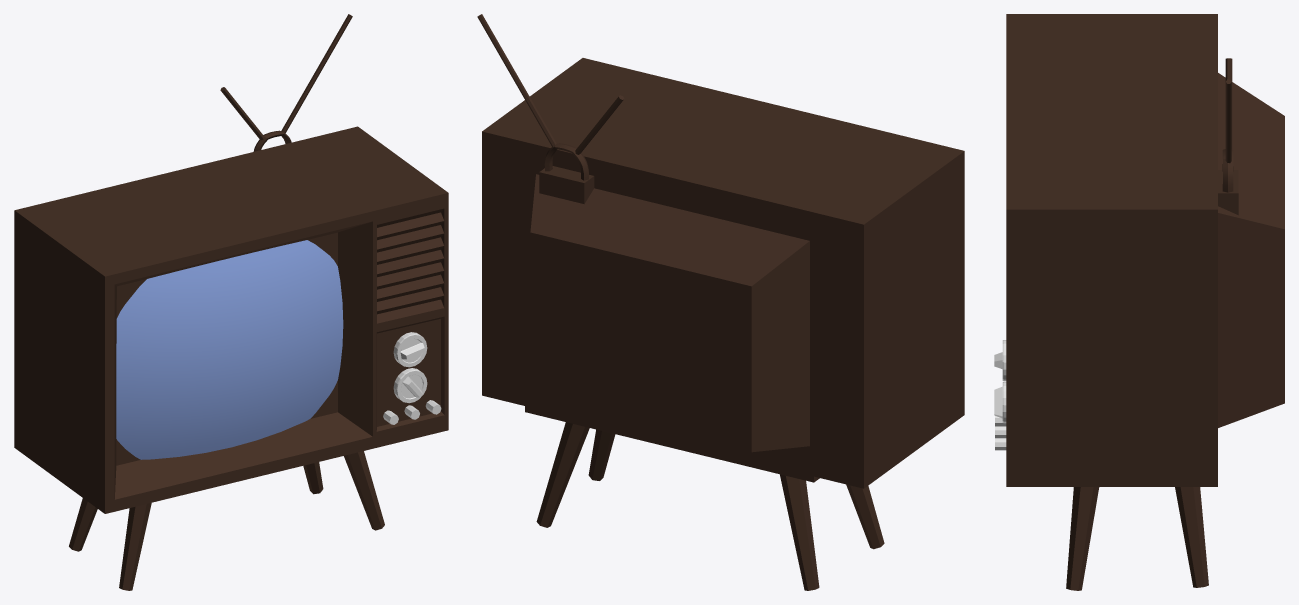
File: RetroTV_SeparatedButtons_low.fbx
3 views of the same model, side by side, from view 1: azimuth 30°, elevation 25°; view 2: azimuth 150°, elevation 25°; view 3: azimuth 270°, elevation 25° (orthographic). The views are drawn at different scales.
Parts seen in each view (by area): view 1: Retro_TV_01_Gehaeuse_low, Retro_TV_01_screen_low, TopB_low, BottomB_low; view 2: Retro_TV_01_Gehaeuse_low; view 3: Retro_TV_01_Gehaeuse_low, BottomB_low.
Boxes of the visible parts, x1,y1,x2,y2 form: Retro_TV_01_Gehaeuse_low: (14,14,448,590); Retro_TV_01_screen_low: (116,240,343,459); TopB_low: (393,332,427,367); BottomB_low: (393,368,427,403); Retro_TV_01_Gehaeuse_low: (477,14,964,590); Retro_TV_01_Gehaeuse_low: (1006,14,1284,590); BottomB_low: (994,382,1006,423).
Size of the model in its own units: 0.8004 by 1.02 by 0.5045.
